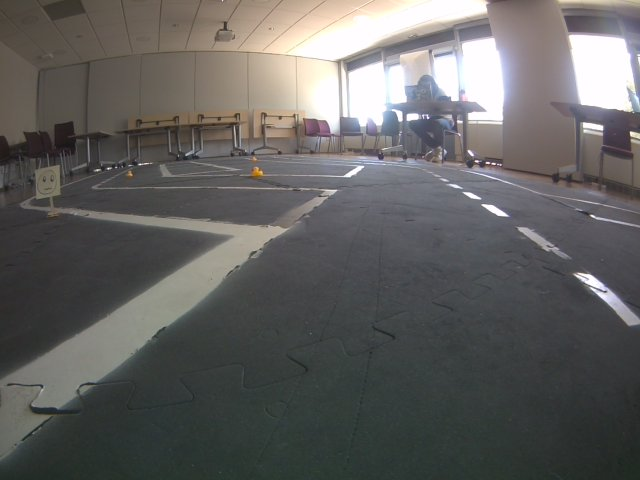Smiley: (33, 165, 62, 199)
